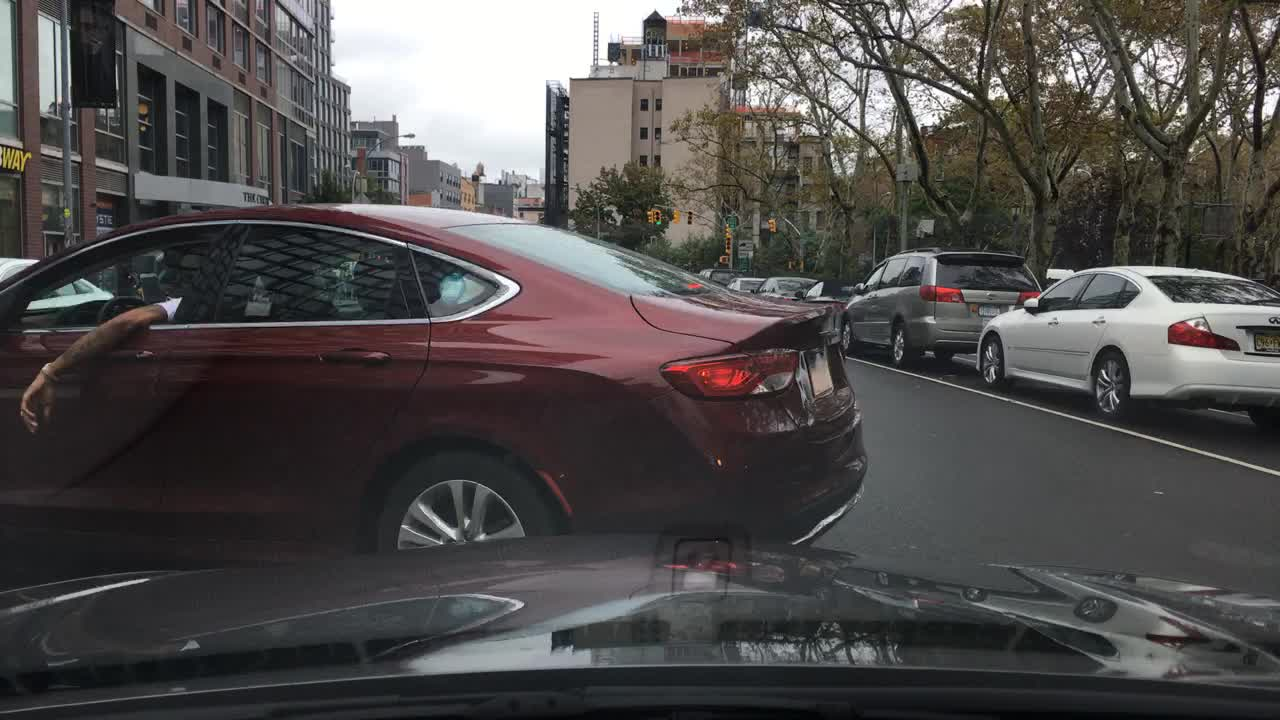car: (0, 199, 865, 597), (978, 264, 1278, 448), (840, 250, 1044, 366), (0, 254, 39, 289), (756, 280, 824, 298), (690, 270, 741, 289), (728, 276, 767, 294)
traffic light: (723, 232, 733, 253), (653, 207, 662, 228), (670, 207, 679, 226), (767, 217, 777, 232), (642, 209, 650, 226), (684, 209, 692, 226), (786, 258, 797, 270), (717, 254, 730, 264)
traffic sign: (920, 217, 935, 239), (736, 241, 753, 255)
